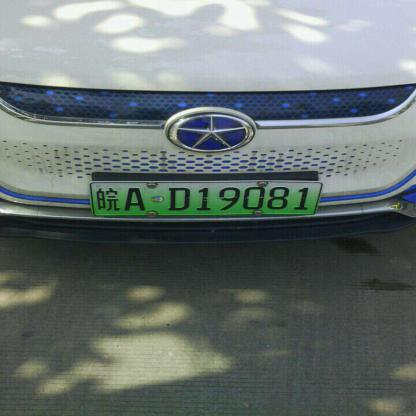lp: (90, 183, 321, 214)
